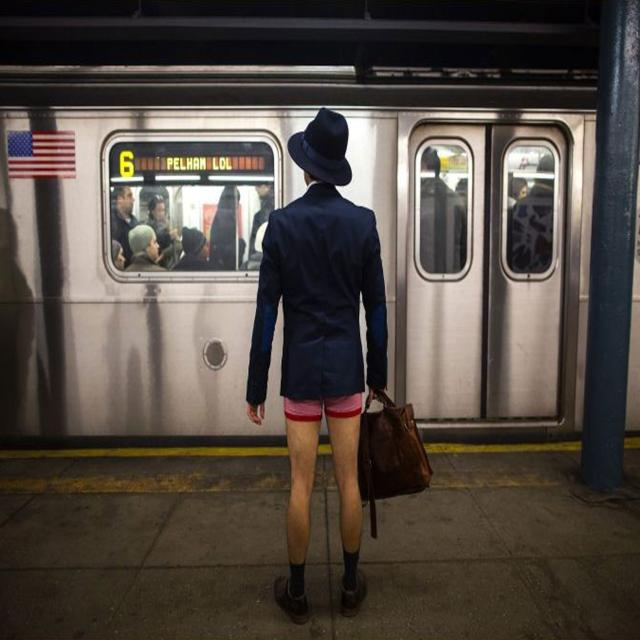body: (243, 105, 434, 625), (1, 206, 44, 492), (419, 144, 467, 275), (506, 153, 556, 275), (155, 221, 189, 332), (208, 184, 246, 272), (171, 225, 226, 270), (448, 159, 486, 224), (110, 182, 138, 267), (123, 223, 169, 272), (247, 182, 275, 262), (144, 192, 172, 232), (506, 176, 528, 210), (111, 238, 126, 272)
